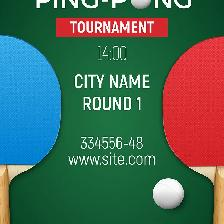WhiteBall: (152, 178, 184, 209)
